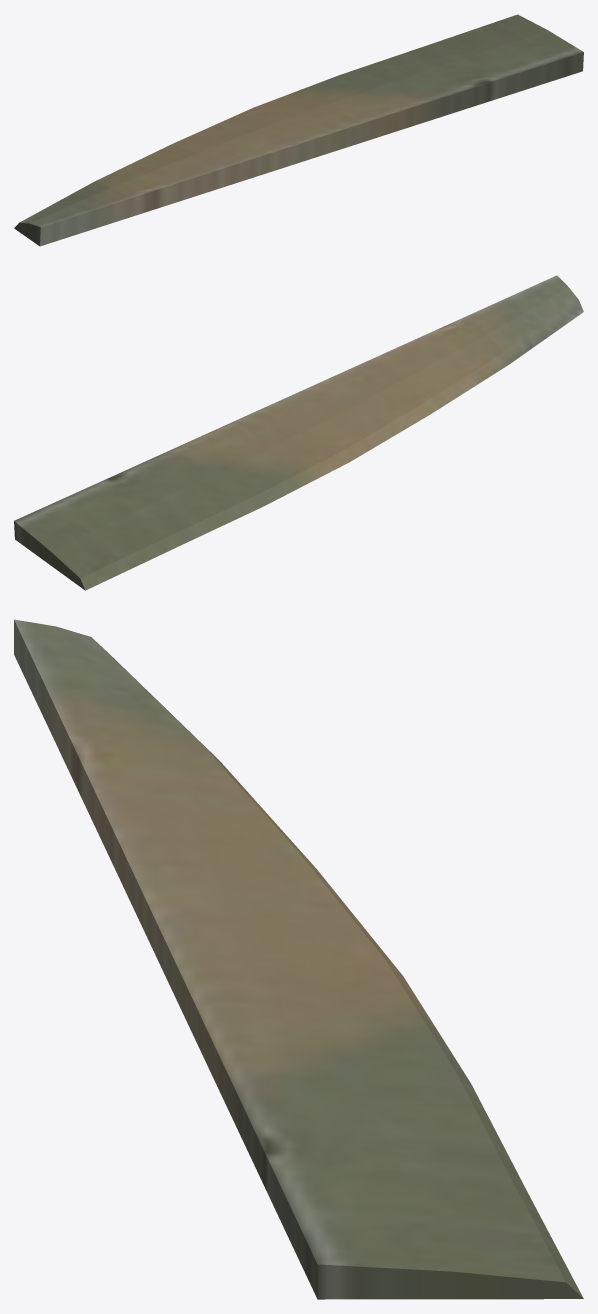
File: wingflaps_right.obj
3 renders of one model, top to bottom at view 1: azimuth 30°, elevation 25°; view 2: azimuth 210°, elevation 25°; view 3: azimuth 270°, elevation 25°, orthographic. The views are drawn at different scales.
Visible parts, largest first — view 1: SF_StearingRight_Plane.011; view 2: SF_StearingRight_Plane.011; view 3: SF_StearingRight_Plane.011.
Boxes of the visible parts, <box> form: SF_StearingRight_Plane.011: <box>14,14,583,246</box>; SF_StearingRight_Plane.011: <box>14,275,583,590</box>; SF_StearingRight_Plane.011: <box>14,619,583,1299</box>.
Size of the model in its own units: 1.5 by 0.1241 by 0.6233.
Materials: 1 (1 with a texture image).
